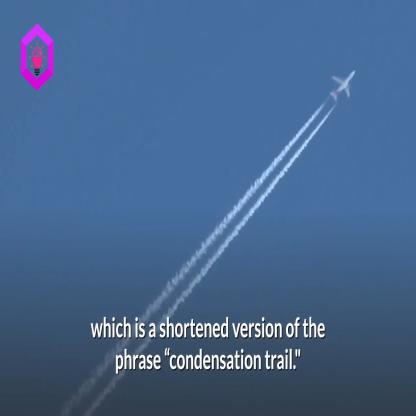plane: (326, 68, 359, 104)
